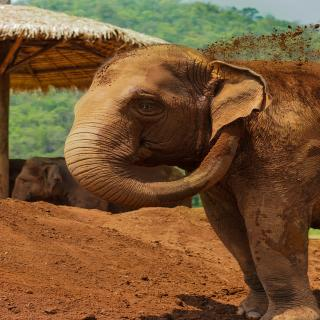Elephant: (62, 43, 320, 320)
